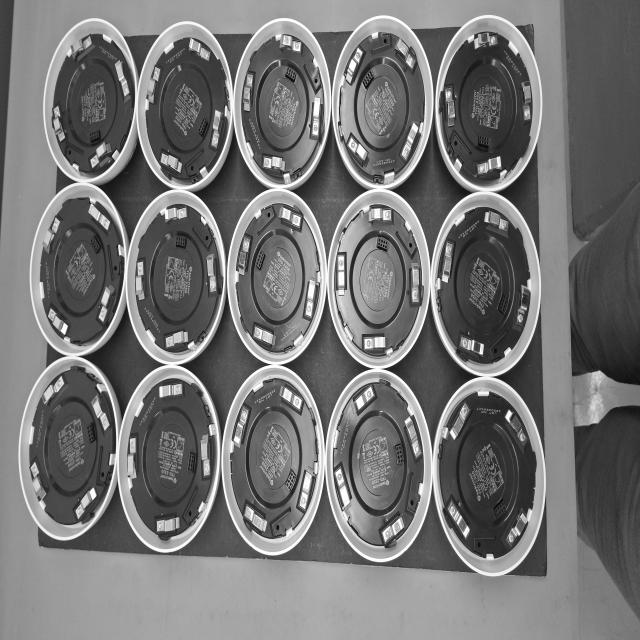yayli: (445, 497, 470, 540), (504, 408, 529, 449), (333, 463, 353, 512), (448, 404, 472, 444), (504, 509, 528, 549), (379, 511, 406, 546), (296, 467, 316, 514), (242, 499, 268, 535), (232, 404, 251, 449), (344, 46, 365, 85), (352, 383, 378, 414), (394, 37, 417, 72), (279, 382, 304, 414), (401, 122, 420, 164), (404, 416, 422, 460), (346, 132, 368, 167), (42, 216, 61, 256), (75, 487, 97, 521), (92, 392, 110, 433), (30, 459, 47, 502), (96, 284, 115, 322), (303, 279, 319, 322), (88, 201, 110, 232), (277, 205, 303, 231), (90, 140, 112, 170), (42, 376, 64, 406), (134, 258, 148, 305), (516, 286, 531, 329), (114, 60, 130, 100), (476, 155, 503, 178), (48, 306, 68, 337), (459, 334, 484, 358), (237, 236, 252, 276), (484, 210, 509, 234), (252, 323, 276, 347), (146, 67, 161, 104), (70, 36, 92, 61), (441, 242, 454, 284), (210, 110, 223, 150), (310, 96, 322, 139), (52, 104, 65, 143), (189, 38, 210, 62), (444, 85, 456, 127), (206, 253, 218, 294), (160, 152, 182, 174), (242, 72, 254, 112), (368, 205, 393, 224), (165, 330, 188, 350), (474, 32, 498, 51), (201, 434, 211, 478), (521, 82, 532, 122), (411, 262, 421, 306), (164, 205, 188, 223), (156, 516, 180, 534), (128, 436, 138, 478), (159, 381, 182, 399), (262, 155, 285, 173), (362, 334, 385, 352), (279, 35, 301, 53), (337, 253, 346, 295)
